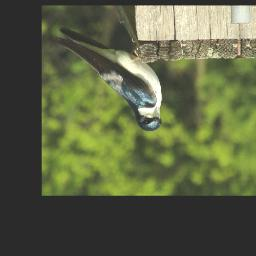Swallow: (53, 27, 164, 132)
